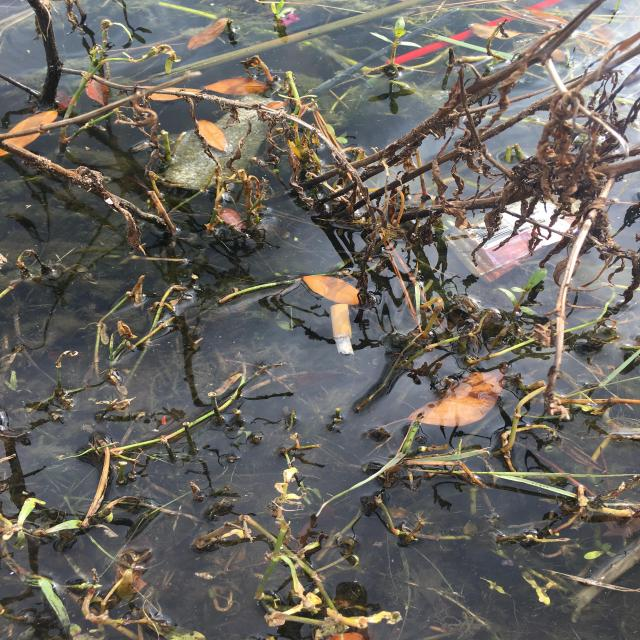litter: (444, 189, 595, 283), (386, 0, 562, 67), (159, 125, 257, 188), (331, 304, 354, 355)
